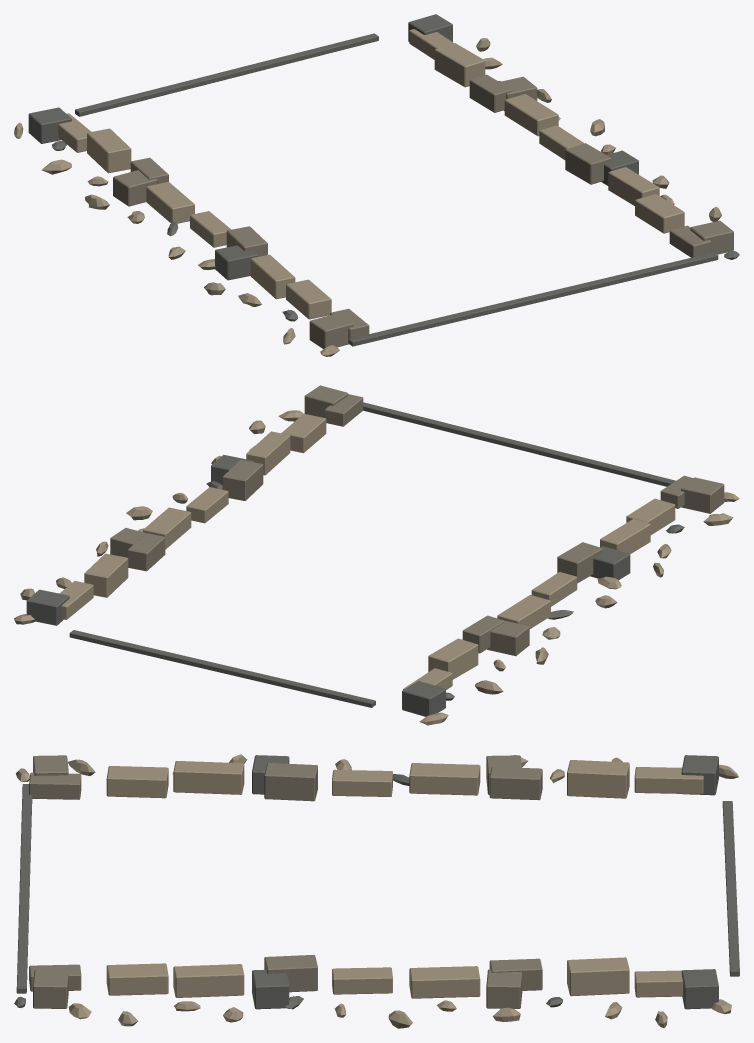
The model's file is forecourt-retaining-edges.glb.
The picture shows the model from 3 angles, top to bottom: view 1: azimuth 30°, elevation 25°; view 2: azimuth 150°, elevation 25°; view 3: azimuth 270°, elevation 25°; orthographic projection. The views are drawn at different scales.
Parts seen in each view (by area): view 1: retaining_cross_step_0, retaining_cross_step_1, retaining_low_block_r_7, retaining_low_block_l_7, retaining_low_block_r_5, retaining_low_block_l_5, retaining_low_block_r_1, retaining_low_block_r_3, retaining_low_block_l_1, retaining_low_block_l_2, retaining_low_block_r_2, retaining_gate_plinth_l_0 (+14 smaller); view 2: retaining_cross_step_0, retaining_cross_step_1, retaining_low_block_l_7, retaining_low_block_r_7, retaining_low_block_r_3, retaining_gate_plinth_l_3, retaining_gate_plinth_l_0, retaining_low_block_l_2, retaining_low_block_r_2, retaining_low_block_l_3, retaining_gate_plinth_l_2, retaining_low_block_r_1 (+14 smaller); view 3: retaining_low_block_l_7, retaining_low_block_r_2, retaining_low_block_r_7, retaining_low_block_l_2, retaining_low_block_l_5, retaining_low_block_r_5, retaining_cross_step_0, retaining_low_block_l_3, retaining_low_block_r_1, retaining_low_block_l_1, retaining_cross_step_1, retaining_low_block_l_6 (+16 smaller).
Boxes of the visible parts, left/top/right/bottom form: retaining_cross_step_0: left=348, top=252, right=718, bottom=346; retaining_cross_step_1: left=75, top=33, right=378, bottom=116; retaining_low_block_r_7: left=434, top=43, right=485, bottom=87; retaining_low_block_l_7: left=87, top=128, right=131, bottom=173; retaining_low_block_r_5: left=504, top=94, right=558, bottom=136; retaining_low_block_l_5: left=146, top=182, right=194, bottom=223; retaining_low_block_r_1: left=635, top=194, right=684, bottom=233; retaining_low_block_r_3: left=565, top=143, right=611, bottom=184; retaining_low_block_l_1: left=286, top=279, right=331, bottom=319; retaining_low_block_l_2: left=250, top=254, right=295, bottom=299; retaining_low_block_r_2: left=608, top=167, right=659, bottom=205; retaining_gate_plinth_l_0: left=309, top=313, right=353, bottom=348; retaining_cross_step_0: left=363, top=402, right=675, bottom=486; retaining_cross_step_1: left=69, top=630, right=375, bottom=707; retaining_low_block_l_7: left=428, top=638, right=478, bottom=679; retaining_low_block_r_7: left=84, top=553, right=128, bottom=597; retaining_low_block_r_3: left=222, top=460, right=263, bottom=500; retaining_gate_plinth_l_3: left=402, top=681, right=445, bottom=716; retaining_gate_plinth_l_0: left=681, top=477, right=724, bottom=513; retaining_low_block_l_2: left=600, top=519, right=650, bottom=554; retaining_low_block_r_2: left=246, top=431, right=290, bottom=475; retaining_low_block_l_3: left=557, top=542, right=602, bottom=583; retaining_gate_plinth_l_2: left=487, top=621, right=529, bottom=656; retaining_low_block_r_1: left=281, top=413, right=326, bottom=453; retaining_low_block_l_7: left=567, top=760, right=629, bottom=798; retaining_low_block_r_2: left=173, top=964, right=244, bottom=997; retaining_low_block_r_7: left=567, top=957, right=629, bottom=996; retaining_low_block_l_2: left=173, top=761, right=244, bottom=794; retaining_low_block_l_5: left=409, top=763, right=480, bottom=795; retaining_low_block_r_5: left=409, top=966, right=480, bottom=998; retaining_cross_step_0: left=16, top=784, right=32, bottom=993; retaining_low_block_l_3: left=264, top=763, right=317, bottom=801; retaining_low_block_r_1: left=106, top=963, right=168, bottom=995; retaining_low_block_l_1: left=106, top=766, right=168, bottom=798; retaining_cross_step_1: left=722, top=801, right=739, bottom=976; retaining_low_block_l_6: left=489, top=766, right=542, bottom=800.
Bounding box in the file's own units: 11.31 × 0.6483 × 13.05.
